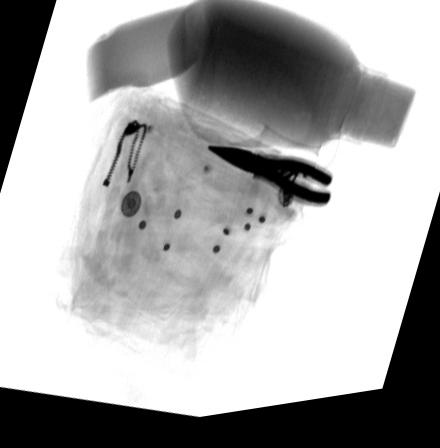Pliers: (205, 151, 332, 217)
